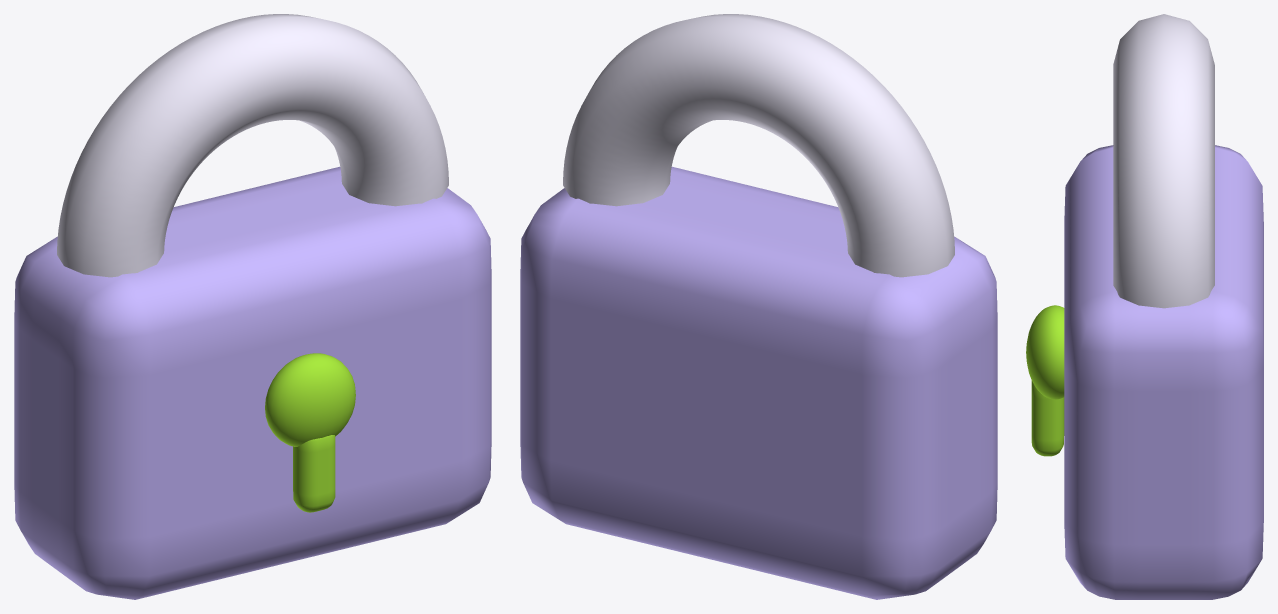
Rendered from lock.glb.
3 renders of one model, left to right at view 1: azimuth 30°, elevation 25°; view 2: azimuth 150°, elevation 25°; view 3: azimuth 270°, elevation 25°, orthographic. The views are drawn at different scales.
Parts seen in each view (by area): view 1: lock; view 2: lock; view 3: lock.
Part boxes in pixels (x1=…): lock: x1=14, y1=14, x2=491, y2=599; lock: x1=520, y1=14, x2=997, y2=599; lock: x1=1026, y1=14, x2=1263, y2=599.
Bounding box in the file's own units: 1.25 × 1.5 × 0.655.
